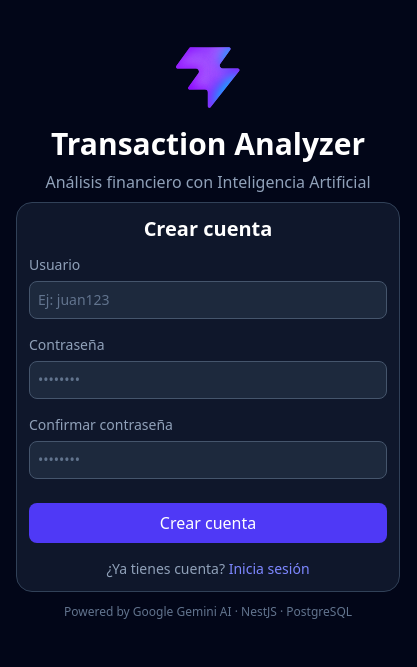
Test: RegisterPage - validación de formulario › shows error when password is empty
The width and height of the screenshot is (417, 667).
Type "juan" into the field with placeholder "Ej: juan123" at (208, 300), box [29,281,387,319]
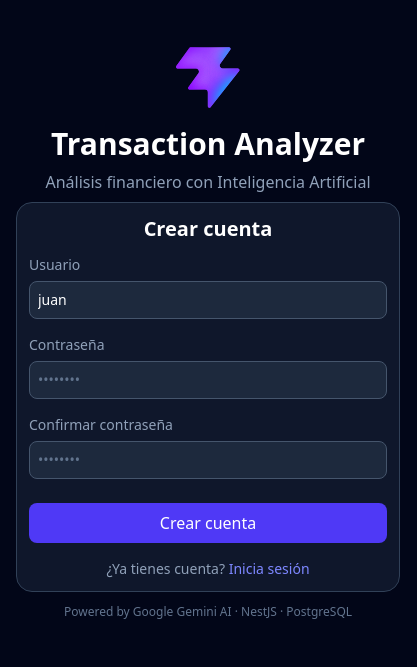
Click the button "Crear cuenta" at (208, 523), box [29,503,387,543]
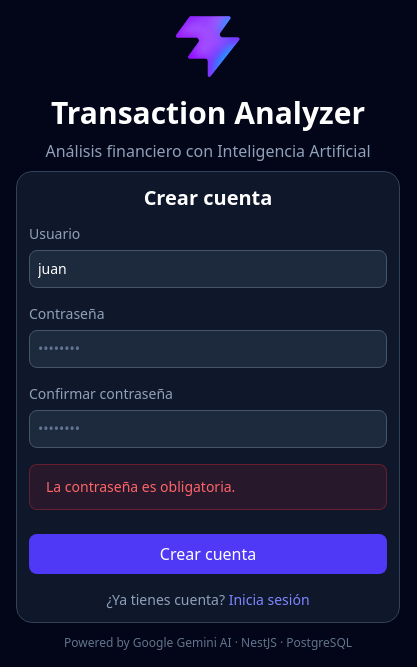
Expected: the text "La contraseña es obligatoria." is shown, [29,464,387,510]
